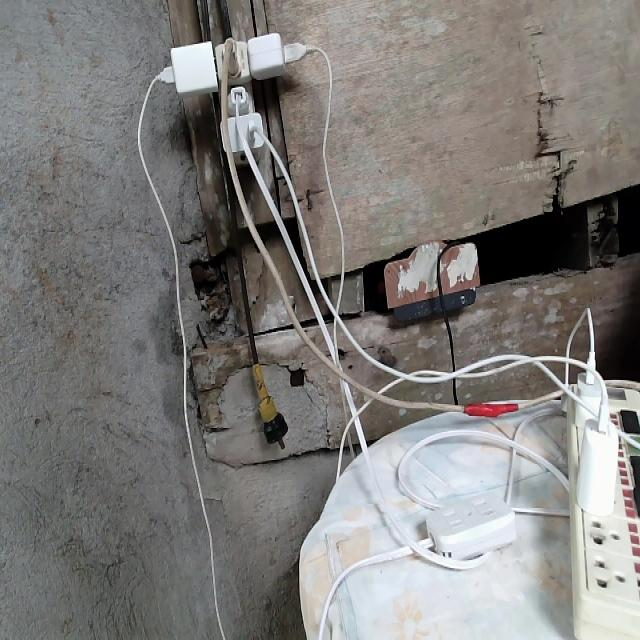-: (151, 29, 322, 167)
